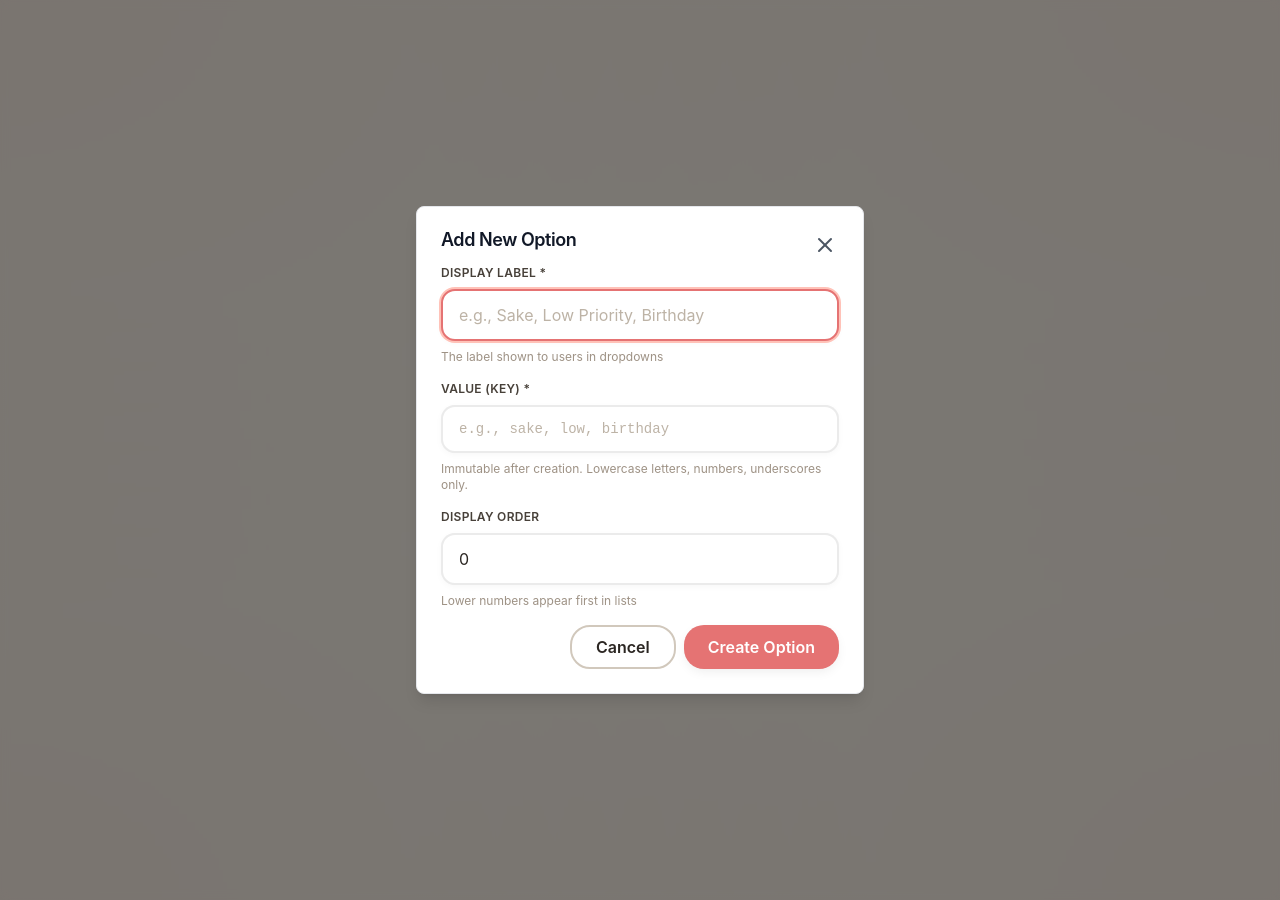
Test: AddOptionModal › auto-generates value from display_label
This screenshot has width=1280, height=900.
Type "Red Wine" into the field labelled "Display Label *" at {"x": 640, "y": 315}, box left=441, top=289, right=839, bottom=341
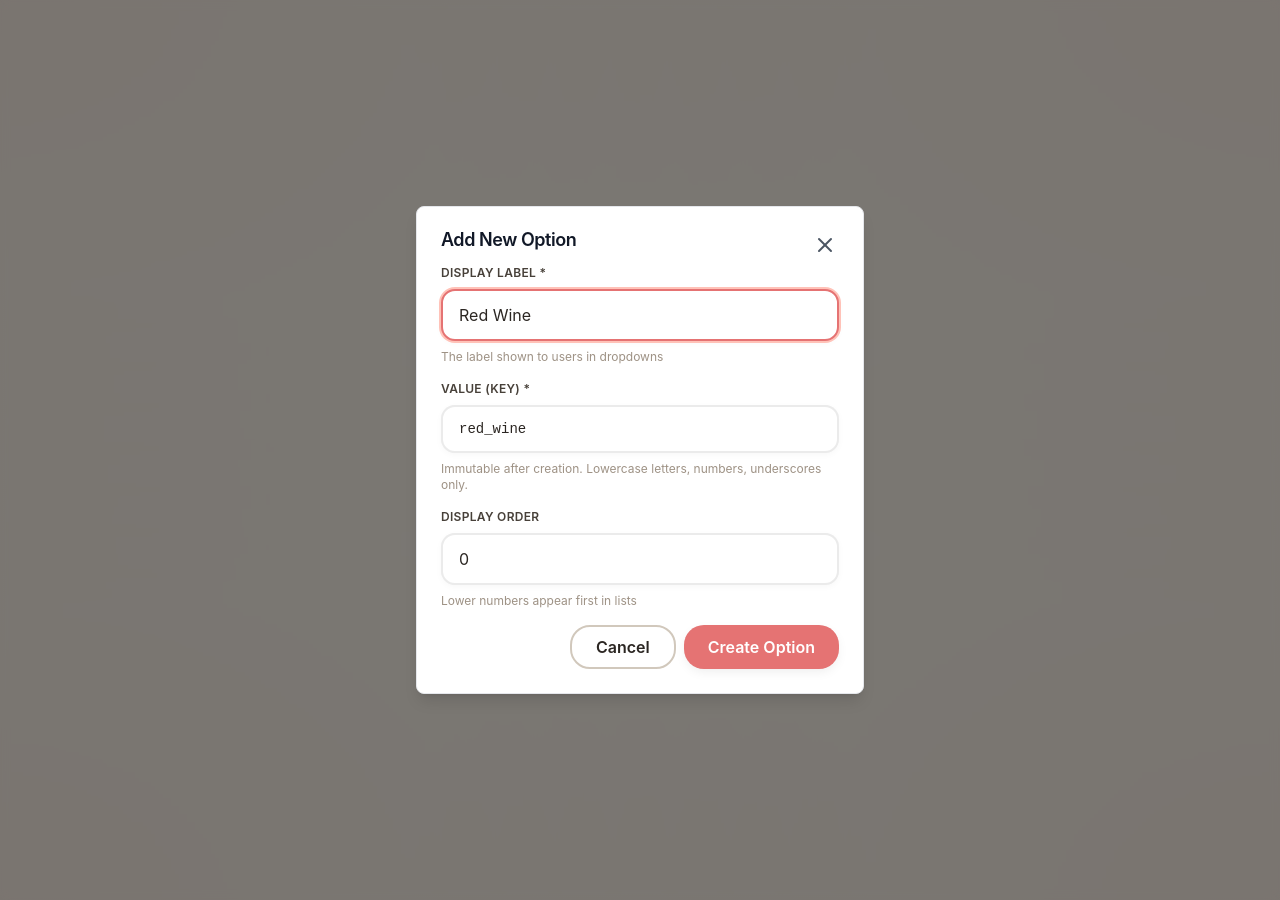
Expected: the field labelled "Value (Key) *" holds "red_wine", left=441, top=405, right=839, bottom=453
